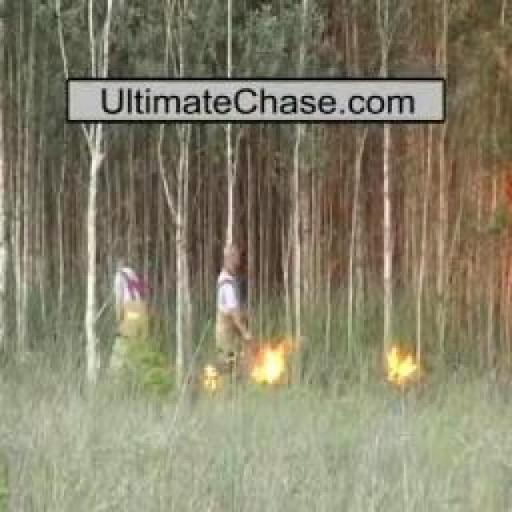smoke: (252, 339, 293, 384), (383, 355, 423, 383), (200, 362, 218, 388)
